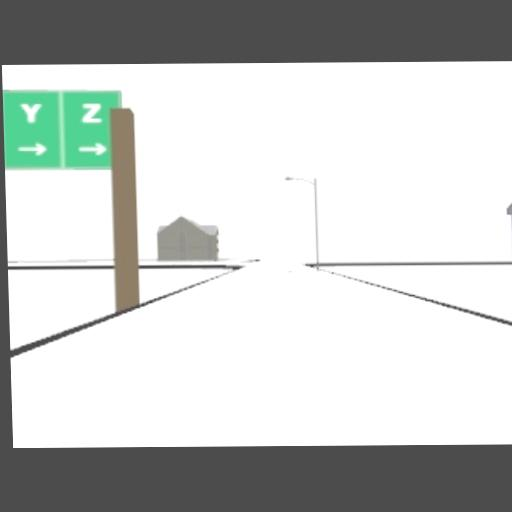Right: (77, 141, 108, 154), (17, 141, 48, 154)
Y: (20, 102, 41, 122)
Z: (81, 101, 102, 121)
